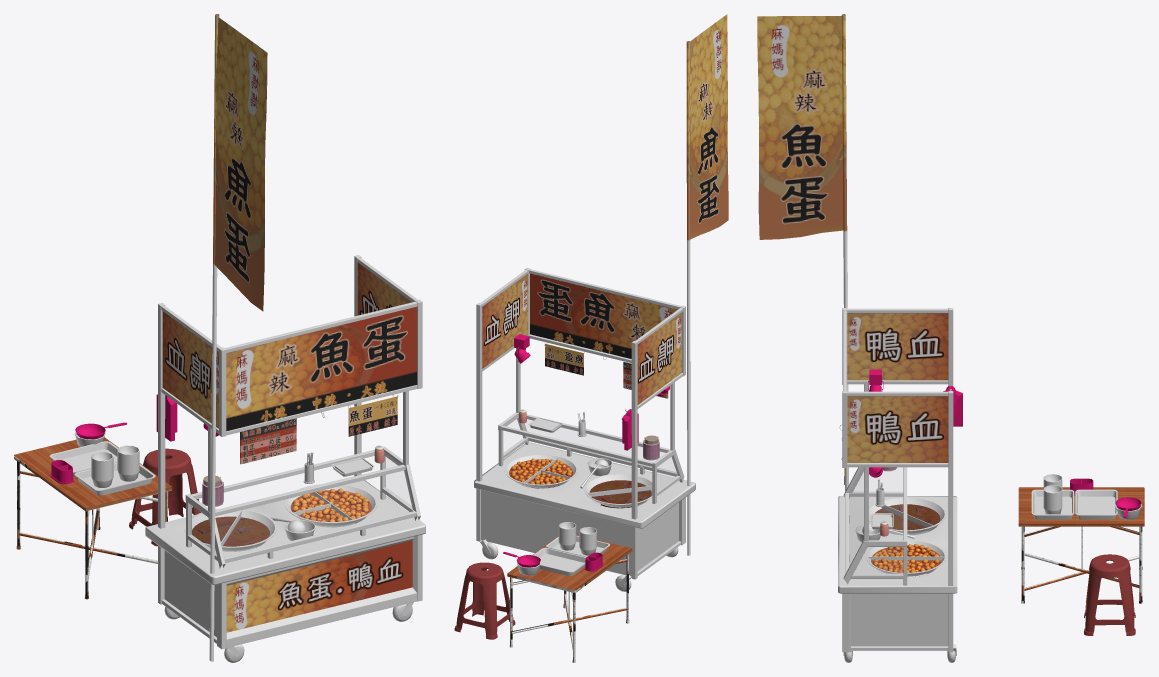
File: YDstation.fbx
3 views of the same model, side by side, from view 1: azimuth 30°, elevation 25°; view 2: azimuth 150°, elevation 25°; view 3: azimuth 270°, elevation 25° (orthographic). The views are drawn at different scales.
Visible parts, largest first — view 1: Frame.002, Frame.003, Flag, Frame.001, Table, Frame.005, Chair, Cube.163, Cube.007, Pot, Pot.001, IronPlate.001 (+5 smaller); view 2: Frame.002, Frame.003, Flag, Frame.005, Frame.001, Table, Chair, Glass, Cube.163, Pot.001, IronPlate.001, Pot (+5 smaller); view 3: Flag, Frame.002, Frame.003, Frame.005, Frame.001, Table, Chair, IronPlate.001, Cube.163, Pot.001, Pot, Cube.007 (+2 smaller).
Part boxes in pixels (left/top/right/bottom): Frame.002: left=162, top=262, right=416, bottom=632; Frame.003: left=158, top=255, right=422, bottom=649; Flag: left=209, top=14, right=267, bottom=661; Frame.001: left=145, top=476, right=425, bottom=584; Table: left=14, top=437, right=171, bottom=599; Frame.005: left=164, top=523, right=354, bottom=637; Chair: left=129, top=448, right=200, bottom=546; Cube.163: left=292, top=488, right=368, bottom=525; Cube.007: left=192, top=516, right=269, bottom=546; Pot: left=284, top=484, right=377, bottom=526; Pot.001: left=184, top=508, right=276, bottom=551; IronPlate.001: left=49, top=441, right=118, bottom=476; Frame.002: left=482, top=273, right=681, bottom=508; Frame.003: left=476, top=267, right=685, bottom=579; Flag: left=686, top=14, right=728, bottom=555; Frame.005: left=481, top=485, right=678, bottom=576; Frame.001: left=474, top=442, right=695, bottom=528; Table: left=507, top=535, right=632, bottom=662; Chair: left=454, top=562, right=515, bottom=639; Glass: left=507, top=418, right=676, bottom=473; Cube.163: left=511, top=458, right=572, bottom=484; Pot.001: left=584, top=473, right=657, bottom=507; IronPlate.001: left=533, top=547, right=585, bottom=575; Pot: left=504, top=454, right=577, bottom=488; Flag: left=757, top=14, right=848, bottom=490; Frame.002: left=844, top=313, right=948, bottom=484; Frame.003: left=842, top=308, right=953, bottom=652; Frame.005: left=851, top=531, right=948, bottom=646; Frame.001: left=838, top=496, right=957, bottom=593; Table: left=1018, top=487, right=1144, bottom=603; Chair: left=1084, top=554, right=1135, bottom=635; IronPlate.001: left=1075, top=489, right=1117, bottom=519; Cube.163: left=873, top=543, right=939, bottom=572; Pot.001: left=869, top=497, right=946, bottom=534; Pot: left=866, top=539, right=946, bottom=576; Cube.007: left=875, top=504, right=940, bottom=530.
Bounding box in the file's own units: 244 × 643 × 398.
